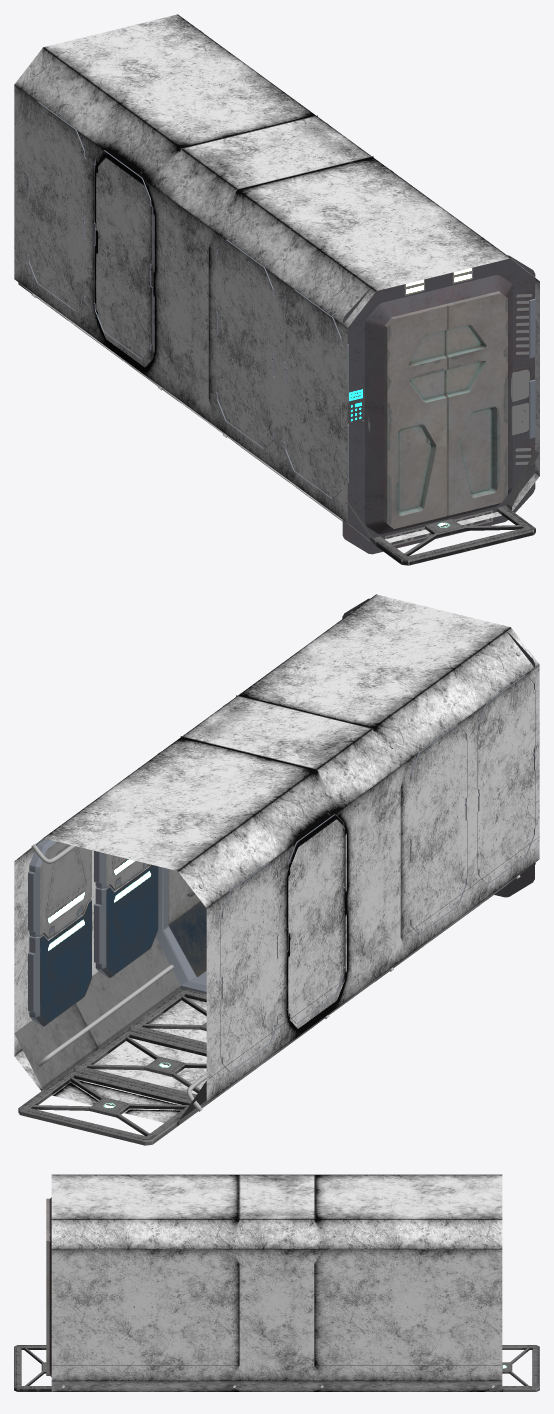
The model's file is scifi_hallway.glb.
The picture shows the model from 3 angles, top to bottom: view 1: azimuth 30°, elevation 25°; view 2: azimuth 150°, elevation 25°; view 3: azimuth 270°, elevation 25°; orthographic projection. The views are drawn at different scales.
Parts seen in each view (by area): view 1: OuterWall, DoorWall, RightDoor, LeftDoor, FLoorPlate5, WallPanel9, polySurface14, WallPanel8, Intersection; view 2: OuterWall, WallPanel8, polySurface14, Intersection, FLoorPlate, FLoorPlate1, WallPanel9, FLoorPlate2, pCylinder3, DoorWall; view 3: OuterWall, FLoorPlate, FLoorPlate5, WallPanel8, LeftDoor, DoorWall, polySurface14.
Part boxes in pixels (<box>): OuterWall: <box>14,14,539,542</box>; DoorWall: <box>342,255,535,554</box>; RightDoor: <box>384,304,447,528</box>; LeftDoor: <box>426,291,507,515</box>; FLoorPlate5: <box>373,506,535,565</box>; WallPanel9: <box>27,101,348,498</box>; polySurface14: <box>14,256,539,544</box>; WallPanel8: <box>529,299,535,439</box>; Intersection: <box>152,115,373,398</box>; OuterWall: <box>14,594,539,1122</box>; WallPanel8: <box>28,839,158,1026</box>; polySurface14: <box>14,836,539,1124</box>; Intersection: <box>155,695,401,993</box>; FLoorPlate: <box>18,1070,192,1145</box>; FLoorPlate1: <box>73,1030,255,1099</box>; WallPanel9: <box>220,675,535,1072</box>; FLoorPlate2: <box>129,989,311,1059</box>; pCylinder3: <box>31,751,329,1111</box>; DoorWall: <box>342,598,534,897</box>; OuterWall: <box>51,1174,502,1391</box>; FLoorPlate: <box>502,1345,539,1391</box>; FLoorPlate5: <box>14,1345,51,1391</box>; WallPanel8: <box>58,1249,483,1372</box>; LeftDoor: <box>46,1216,50,1375</box>; DoorWall: <box>49,1197,51,1376</box>; polySurface14: <box>52,1365,501,1365</box>.
Size of the model in its own units: 1.84 by 2.42 by 6.38.
Materials: 8 (7 with a texture image).
